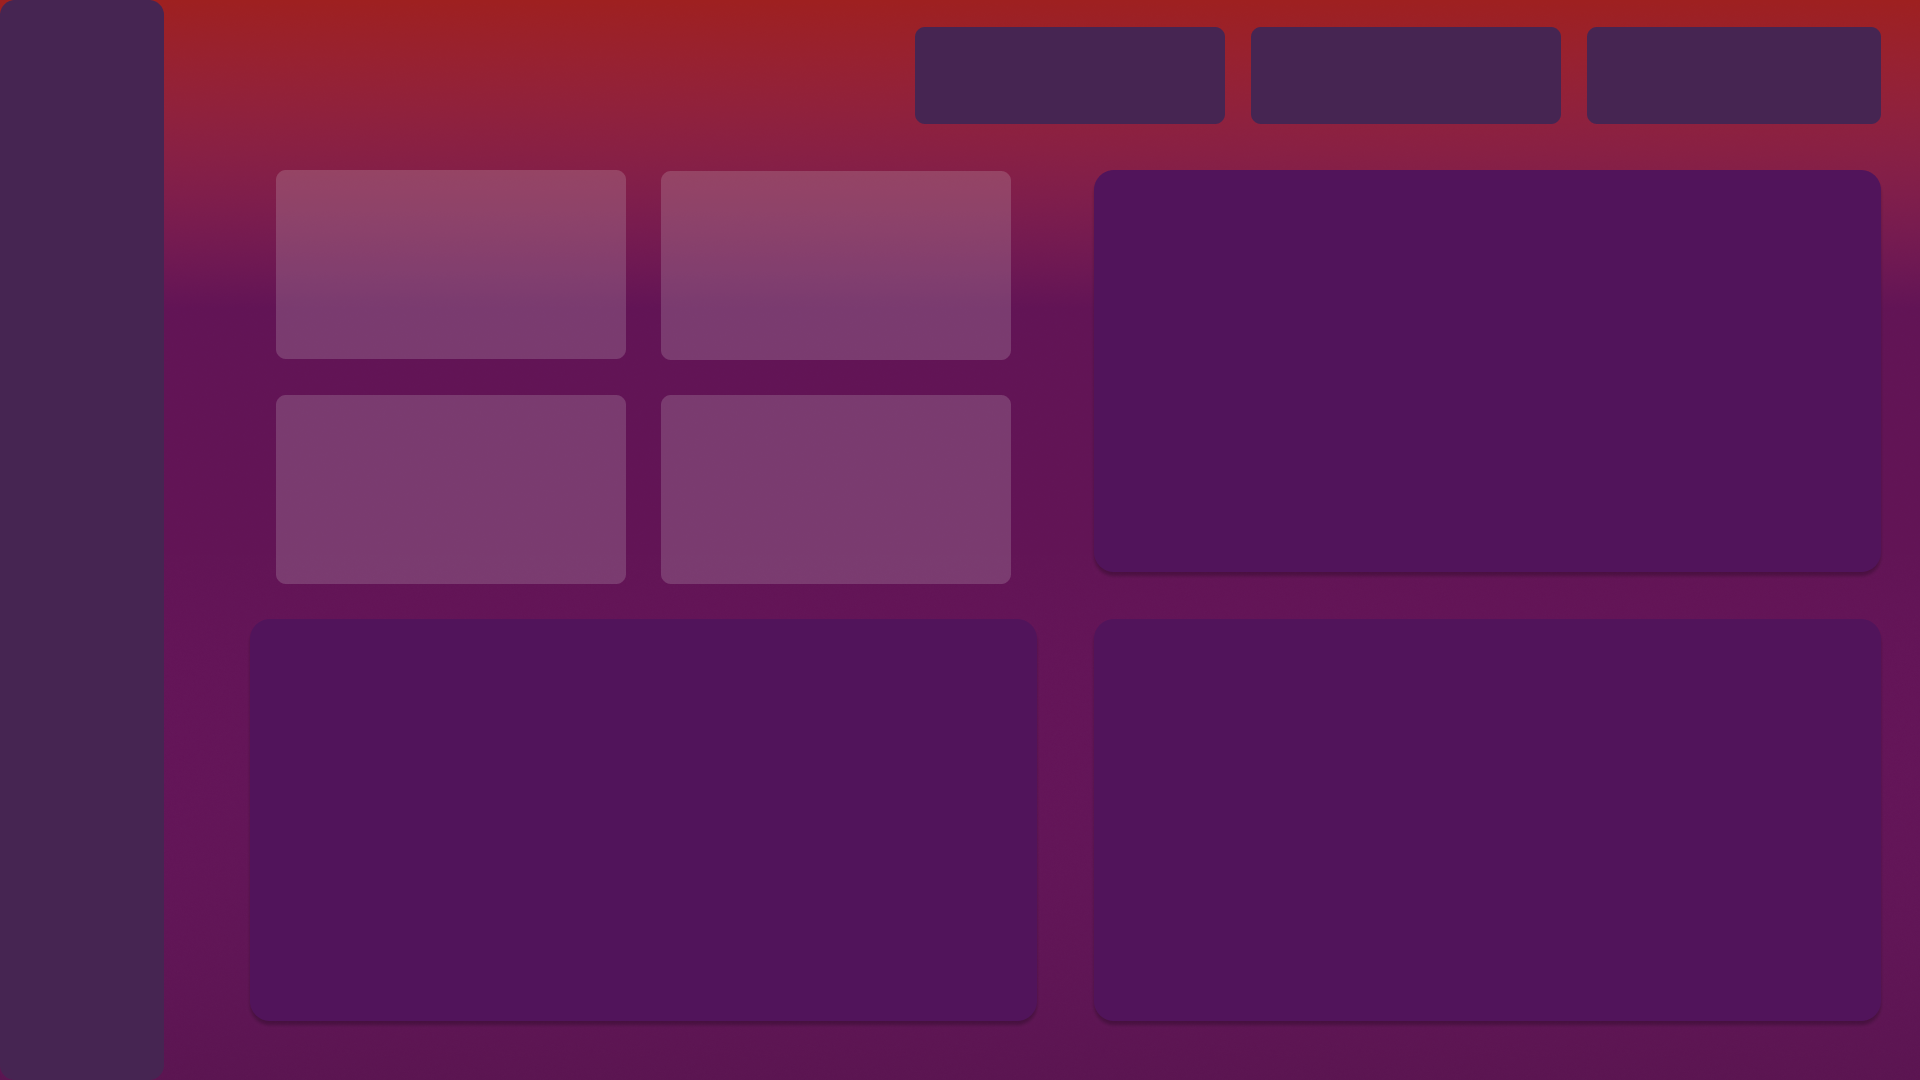

The page's visual inventory and layout, read from the dashboard file:
{"tool":"powerbi","page":{"name":"Geral","canvas":[1920,1080],"ordinal":0},"visuals":[{"type":"clusteredColumnChart","title":"Contratações e Desligamentos por Ano","fields":{"Category":["dCalendario.Ano"],"Y":["Medidas.Contratações","Medidas.Desligamentos"]},"box":[389.5,372,1459,312.2],"z":0},{"type":"multiRowCard","fields":{"Values":["Medidas.Colaboradores Ativos"]},"box":[397.2,226.8,223,110.3],"z":1000},{"type":"multiRowCard","fields":{"Values":["Medidas.Contratações"]},"box":[859.5,226.8,139.1,110.3],"z":2000},{"type":"multiRowCard","fields":{"Values":["Medidas.Desligamentos"]},"box":[1221.6,226.8,154.1,110.3],"z":3000},{"type":"multiRowCard","fields":{"Values":["Medidas.Turnover Desligados"]},"box":[1562.4,226.8,191.7,110.3],"z":4000},{"type":"lineChart","title":"Turnover Desligados","fields":{"Y":["Medidas.Turnover Desligados"],"Category":["dCalendario.Ano"]},"box":[389.5,729.5,958.5,312.2],"z":5000},{"type":"columnChart","title":"Colaboradores Ativos por Anos de Empresa","fields":{"Y":["Medidas.Colaboradores Ativos"],"Category":["fColaborador.Anos de Empresa (grupos)"]},"box":[1402.1,736.8,446.4,293.3],"z":6000},{"type":"slicer","title":"Liderança","fields":{"Values":["fColaborador.Liderança_Setor"]},"box":[25.1,507,300.1,76.9],"z":7000},{"type":"slicer","title":"Setor","fields":{"Values":["fColaborador.Setor"]},"box":[25.1,614.1,300.1,76.9],"z":8000},{"type":"slicer","title":"Cargo","fields":{"Values":["fColaborador.Cargo"]},"box":[25.1,718.2,300.1,76.9],"z":9000},{"type":"actionButton","box":[997.3,225.5,87.7,85.2],"z":10000},{"type":"image","box":[220.5,411,57.6,66.4],"z":10001},{"type":"image","box":[115.3,411,68.9,66.4],"z":10002},{"type":"actionButton","box":[115.3,411,68.9,66.4],"z":10003},{"type":"actionButton","box":[220.5,411,57.6,66.4],"z":10004},{"type":"textbox","box":[378.4,82.7,606.4,94],"z":10005}]}

Visuals, with their boxes on the page's 1920x1080 design canvas (x1, y1, x2, y2). These are canvas units, not pixel positions in the 1920x1080 screenshot, which may show the page scaled, cropped or inside an application window:
"Contratações e Desligamentos por Ano" clusteredColumnChart: <box>390,372,1848,684</box>
multiRowCard - Medidas.Colaboradores Ativos: <box>397,227,620,337</box>
multiRowCard - Medidas.Contratações: <box>860,227,999,337</box>
multiRowCard - Medidas.Desligamentos: <box>1222,227,1376,337</box>
multiRowCard - Medidas.Turnover Desligados: <box>1562,227,1754,337</box>
"Turnover Desligados" lineChart: <box>390,730,1348,1042</box>
"Colaboradores Ativos por Anos de Empresa" columnChart: <box>1402,737,1848,1030</box>
"Liderança" slicer: <box>25,507,325,584</box>
"Setor" slicer: <box>25,614,325,691</box>
"Cargo" slicer: <box>25,718,325,795</box>
actionButton: <box>997,226,1085,311</box>
image: <box>220,411,278,477</box>
image: <box>115,411,184,477</box>
actionButton: <box>115,411,184,477</box>
actionButton: <box>220,411,278,477</box>
textbox: <box>378,83,985,177</box>
